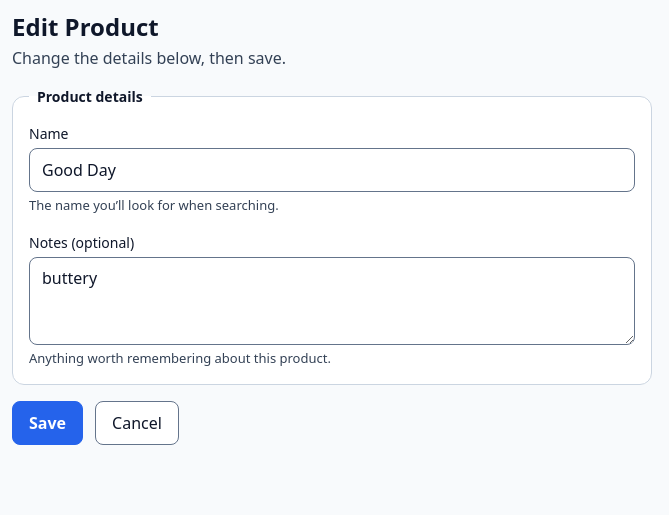
ProductFormPage › edit › shows the domain validation message linked to the name input and stays on the form
Clear the field labelled "Name": (332, 170) [29,148,635,192]
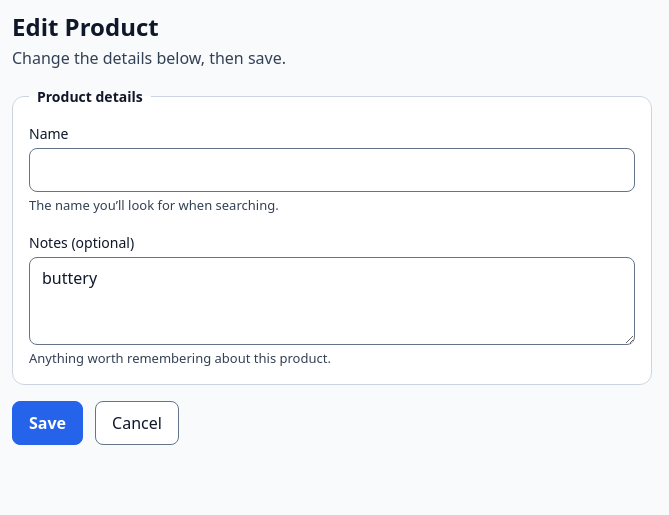
Click the button "Save": (48, 423) [12,401,83,445]
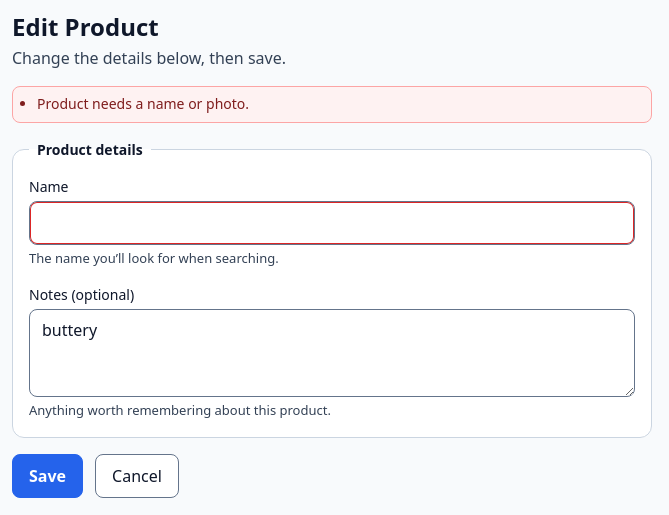
Expected: the message reads "Product needs a name or photo.", [37,94,249,113]
